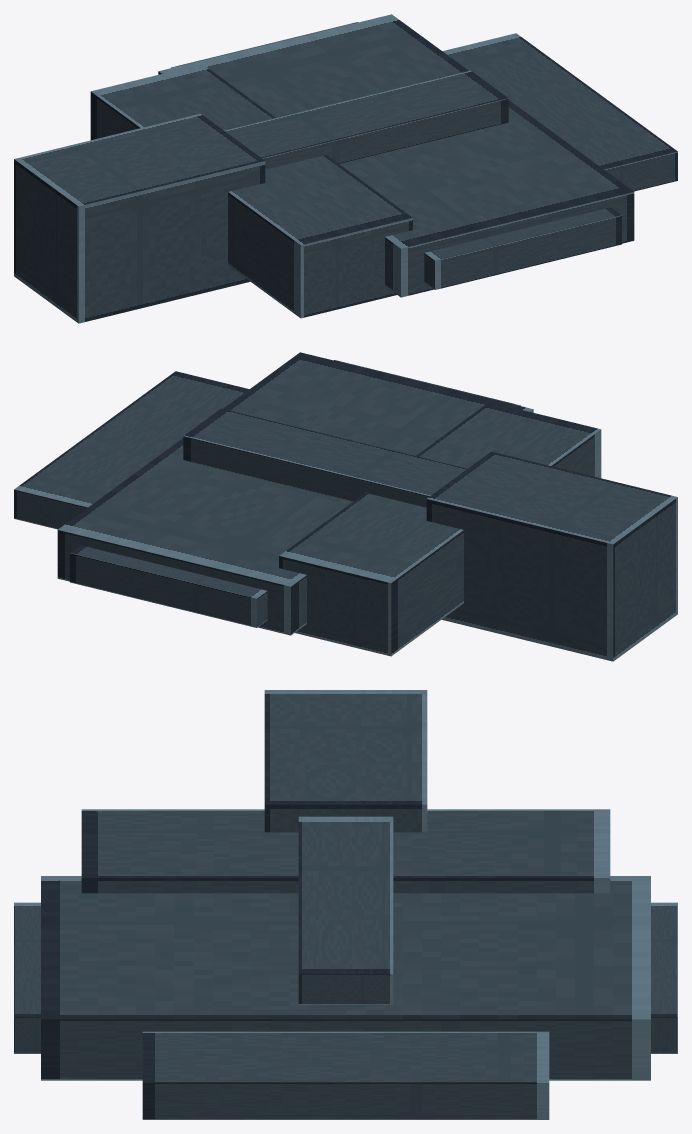
The model's file is bench_shovel_2.obj.
The picture shows the model from 3 angles, top to bottom: view 1: azimuth 30°, elevation 25°; view 2: azimuth 150°, elevation 25°; view 3: azimuth 270°, elevation 25°; orthographic projection. The views are drawn at different scales.
Parts seen in each view (by area): view 1: geometry; view 2: geometry; view 3: geometry.
Boxes of the visible parts, left/top/right/bottom form: geometry: left=14, top=14, right=677, bottom=323; geometry: left=14, top=352, right=677, bottom=661; geometry: left=14, top=690, right=677, bottom=1119.
Bounding box in the file's own units: 0.75 × 0.1525 × 0.6229.
